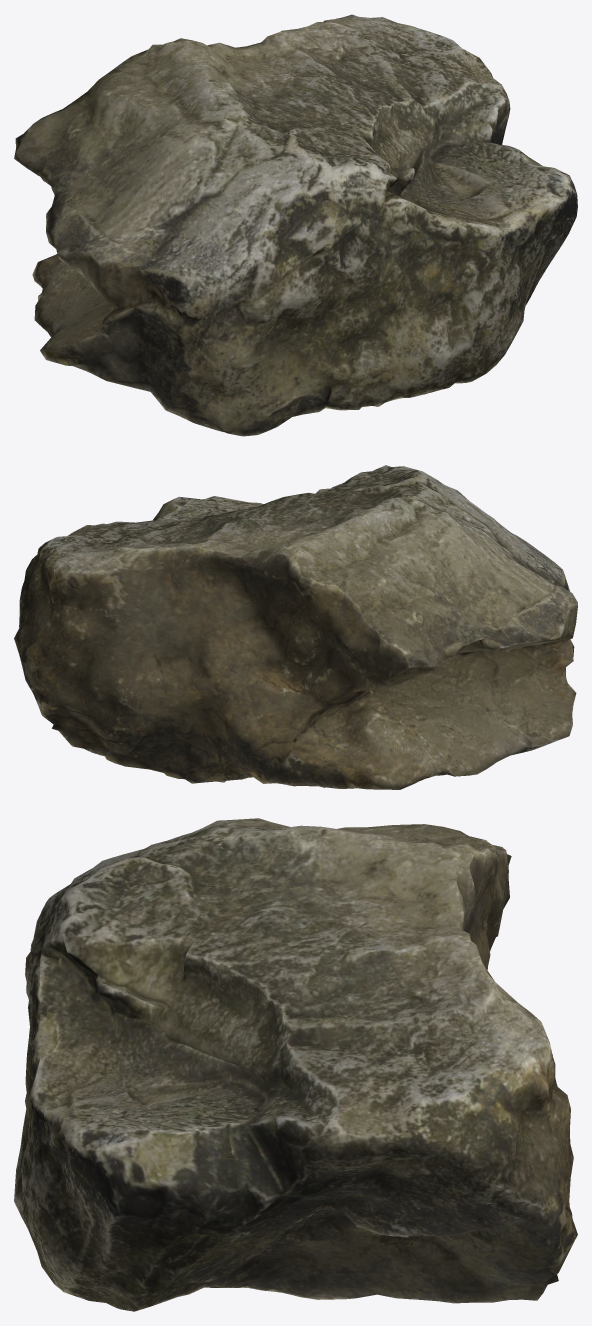
Rendered from moss-rock-12.glb.
3 renders of one model, top to bottom at view 1: azimuth 30°, elevation 25°; view 2: azimuth 150°, elevation 25°; view 3: azimuth 270°, elevation 25°, orthographic. The views are drawn at different scales.
Parts seen in each view (by area): view 1: Object_2; view 2: Object_2; view 3: Object_2.
Boxes of the visible parts, x1,y1,x2,y2 form: Object_2: [14, 14, 577, 436]; Object_2: [14, 465, 577, 789]; Object_2: [14, 818, 577, 1311].
Size of the model in its own units: 2.97 by 1.54 by 2.18.
1 material, 1 textured.
